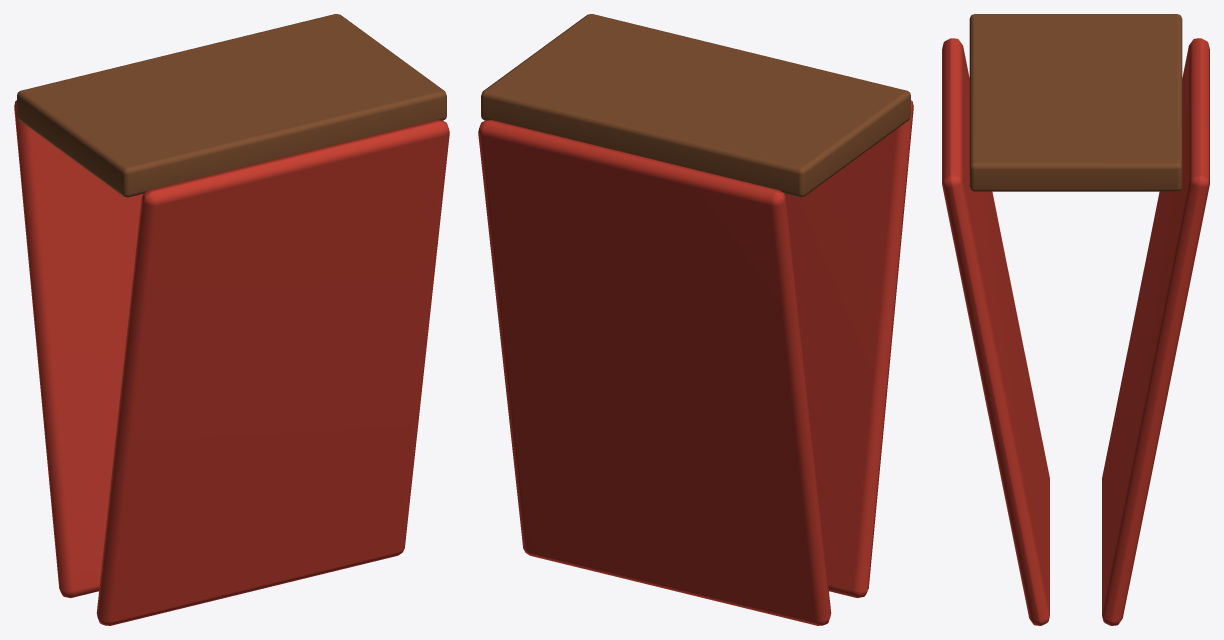
Rendered from aframe_sign.glb.
The picture shows the model from 3 angles, left to right: view 1: azimuth 30°, elevation 25°; view 2: azimuth 150°, elevation 25°; view 3: azimuth 270°, elevation 25°; orthographic projection. The views are drawn at different scales.
Visible parts, largest first — view 1: Board, Frame, Board.001; view 2: Board.001, Frame, Board; view 3: Frame, Board, Board.001.
Part boxes in pixels (x1,y1,x2,y2): Board: (96, 120, 449, 625); Frame: (17, 14, 446, 197); Board.001: (14, 100, 143, 598); Board.001: (478, 120, 831, 625); Frame: (481, 14, 910, 197); Board: (784, 100, 913, 598); Frame: (969, 14, 1182, 191); Board: (942, 38, 1049, 625); Board.001: (1102, 38, 1209, 625).
Bounding box in the file's own units: 0.68 × 0.9727 × 0.5029.
